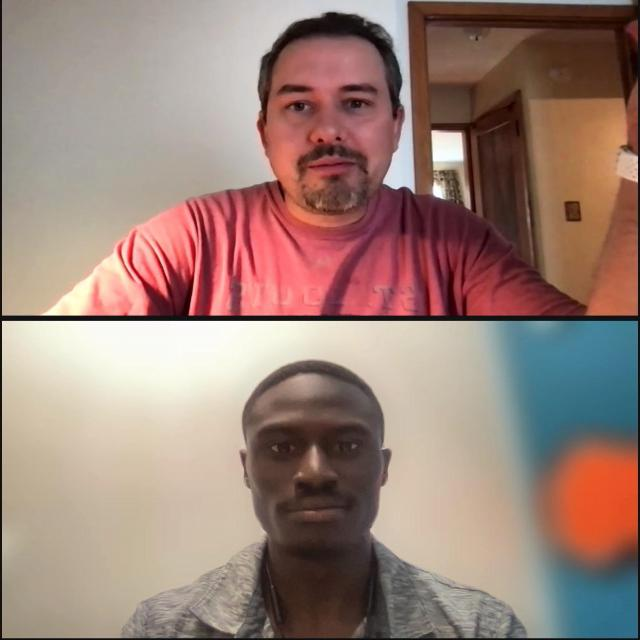face: (251, 14, 407, 217), (237, 358, 393, 560)
